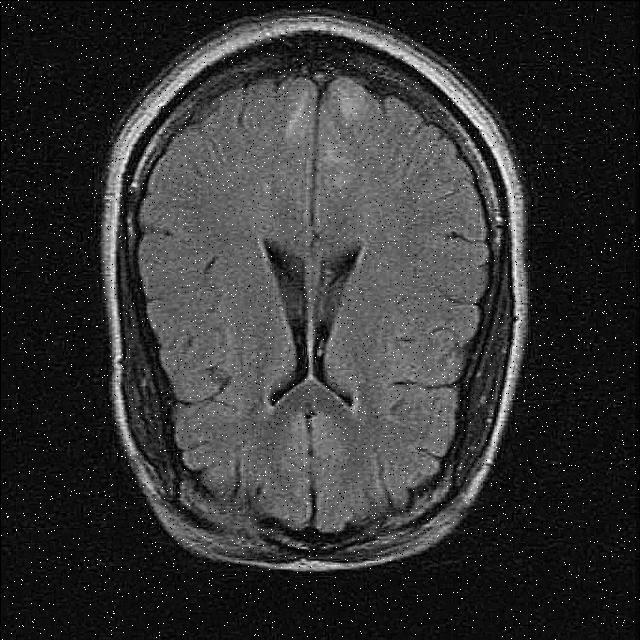No_Tumor: (102, 11, 526, 571)
